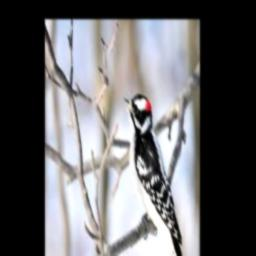Woodpecker: (122, 94, 188, 256)
